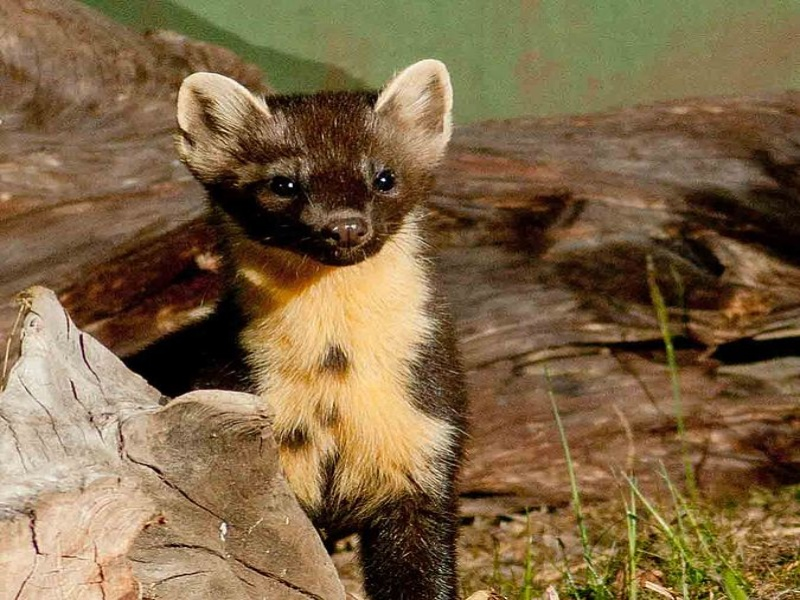minkish: (172, 52, 470, 600)
